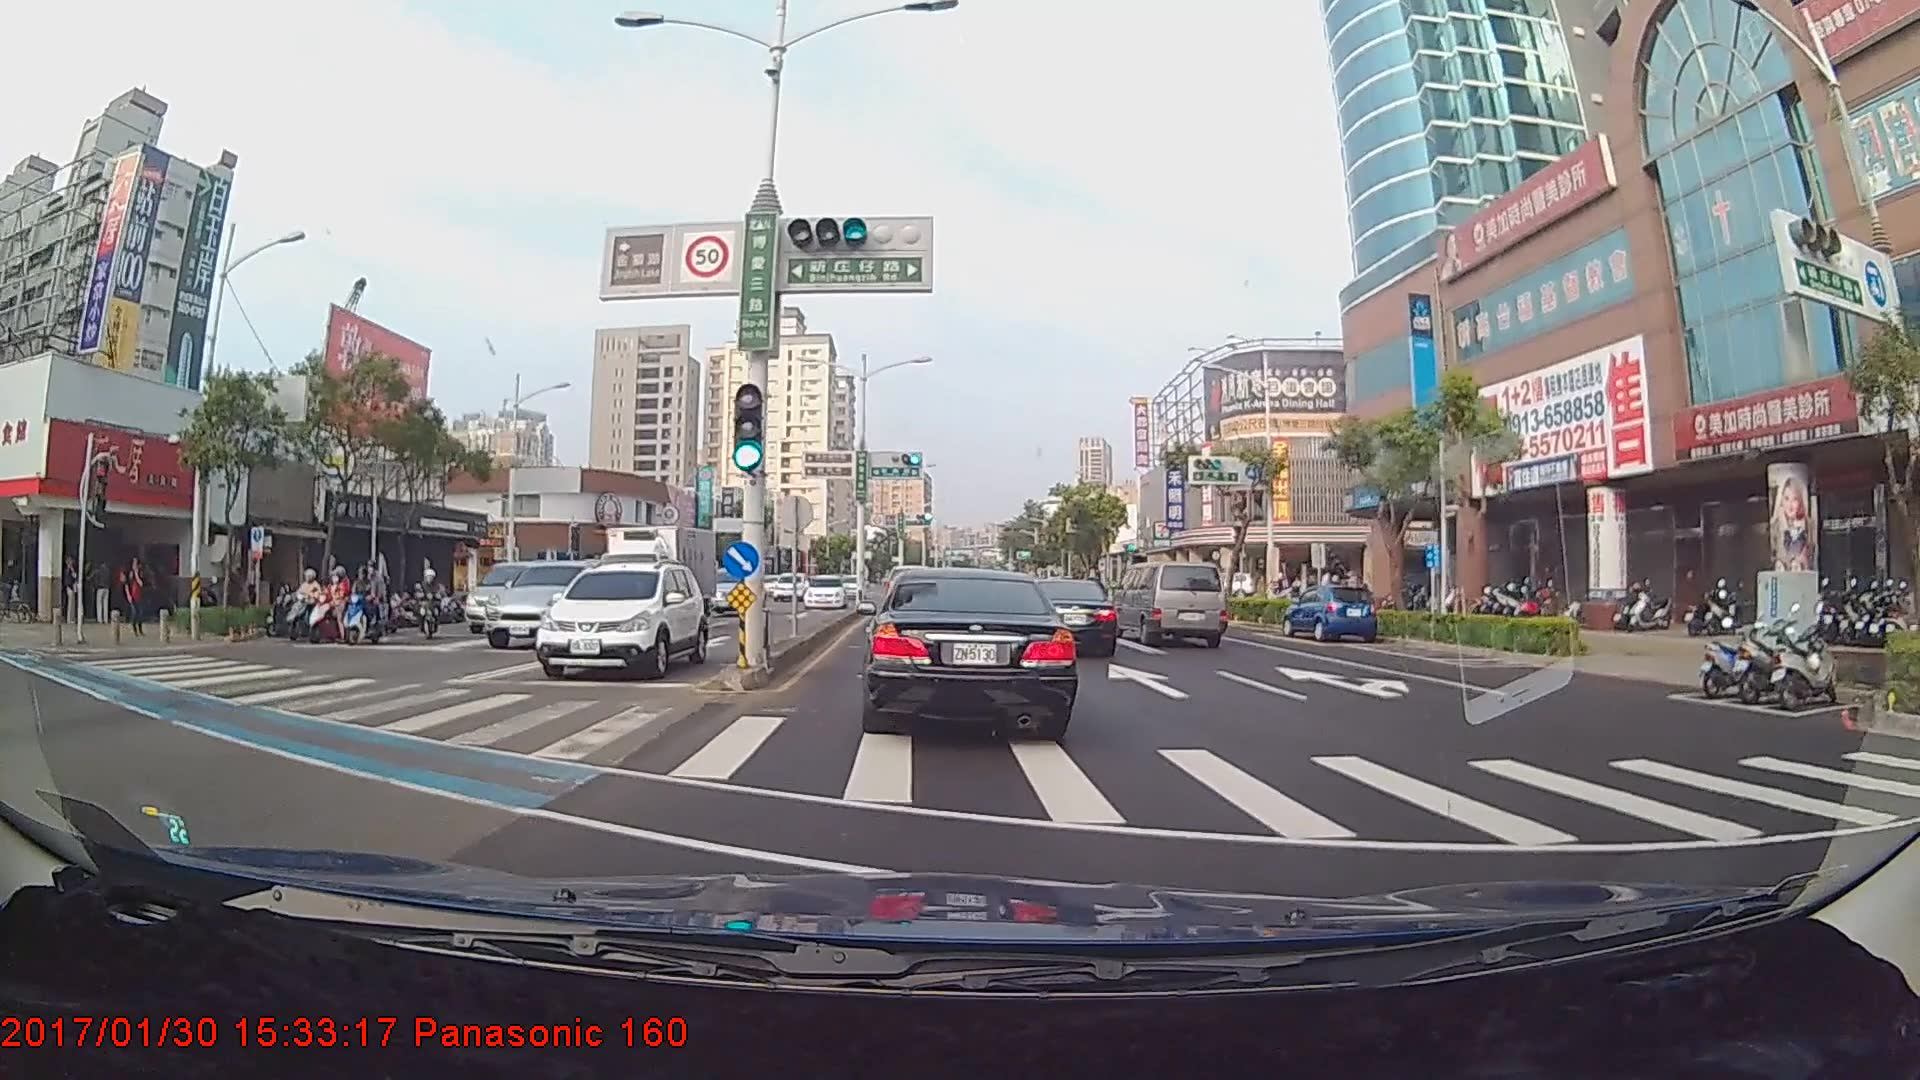pedestrian: (127, 557, 150, 640), (63, 555, 88, 629), (93, 556, 116, 627)
rider: (336, 562, 401, 653), (297, 567, 365, 648), (266, 563, 332, 638), (1, 559, 42, 630)
vehicle: (861, 564, 1077, 736), (532, 559, 709, 680), (584, 515, 723, 643), (481, 557, 607, 646), (1117, 558, 1228, 648), (1016, 584, 1117, 666), (1284, 583, 1379, 643), (706, 563, 770, 614), (802, 576, 842, 606), (774, 575, 800, 604)
